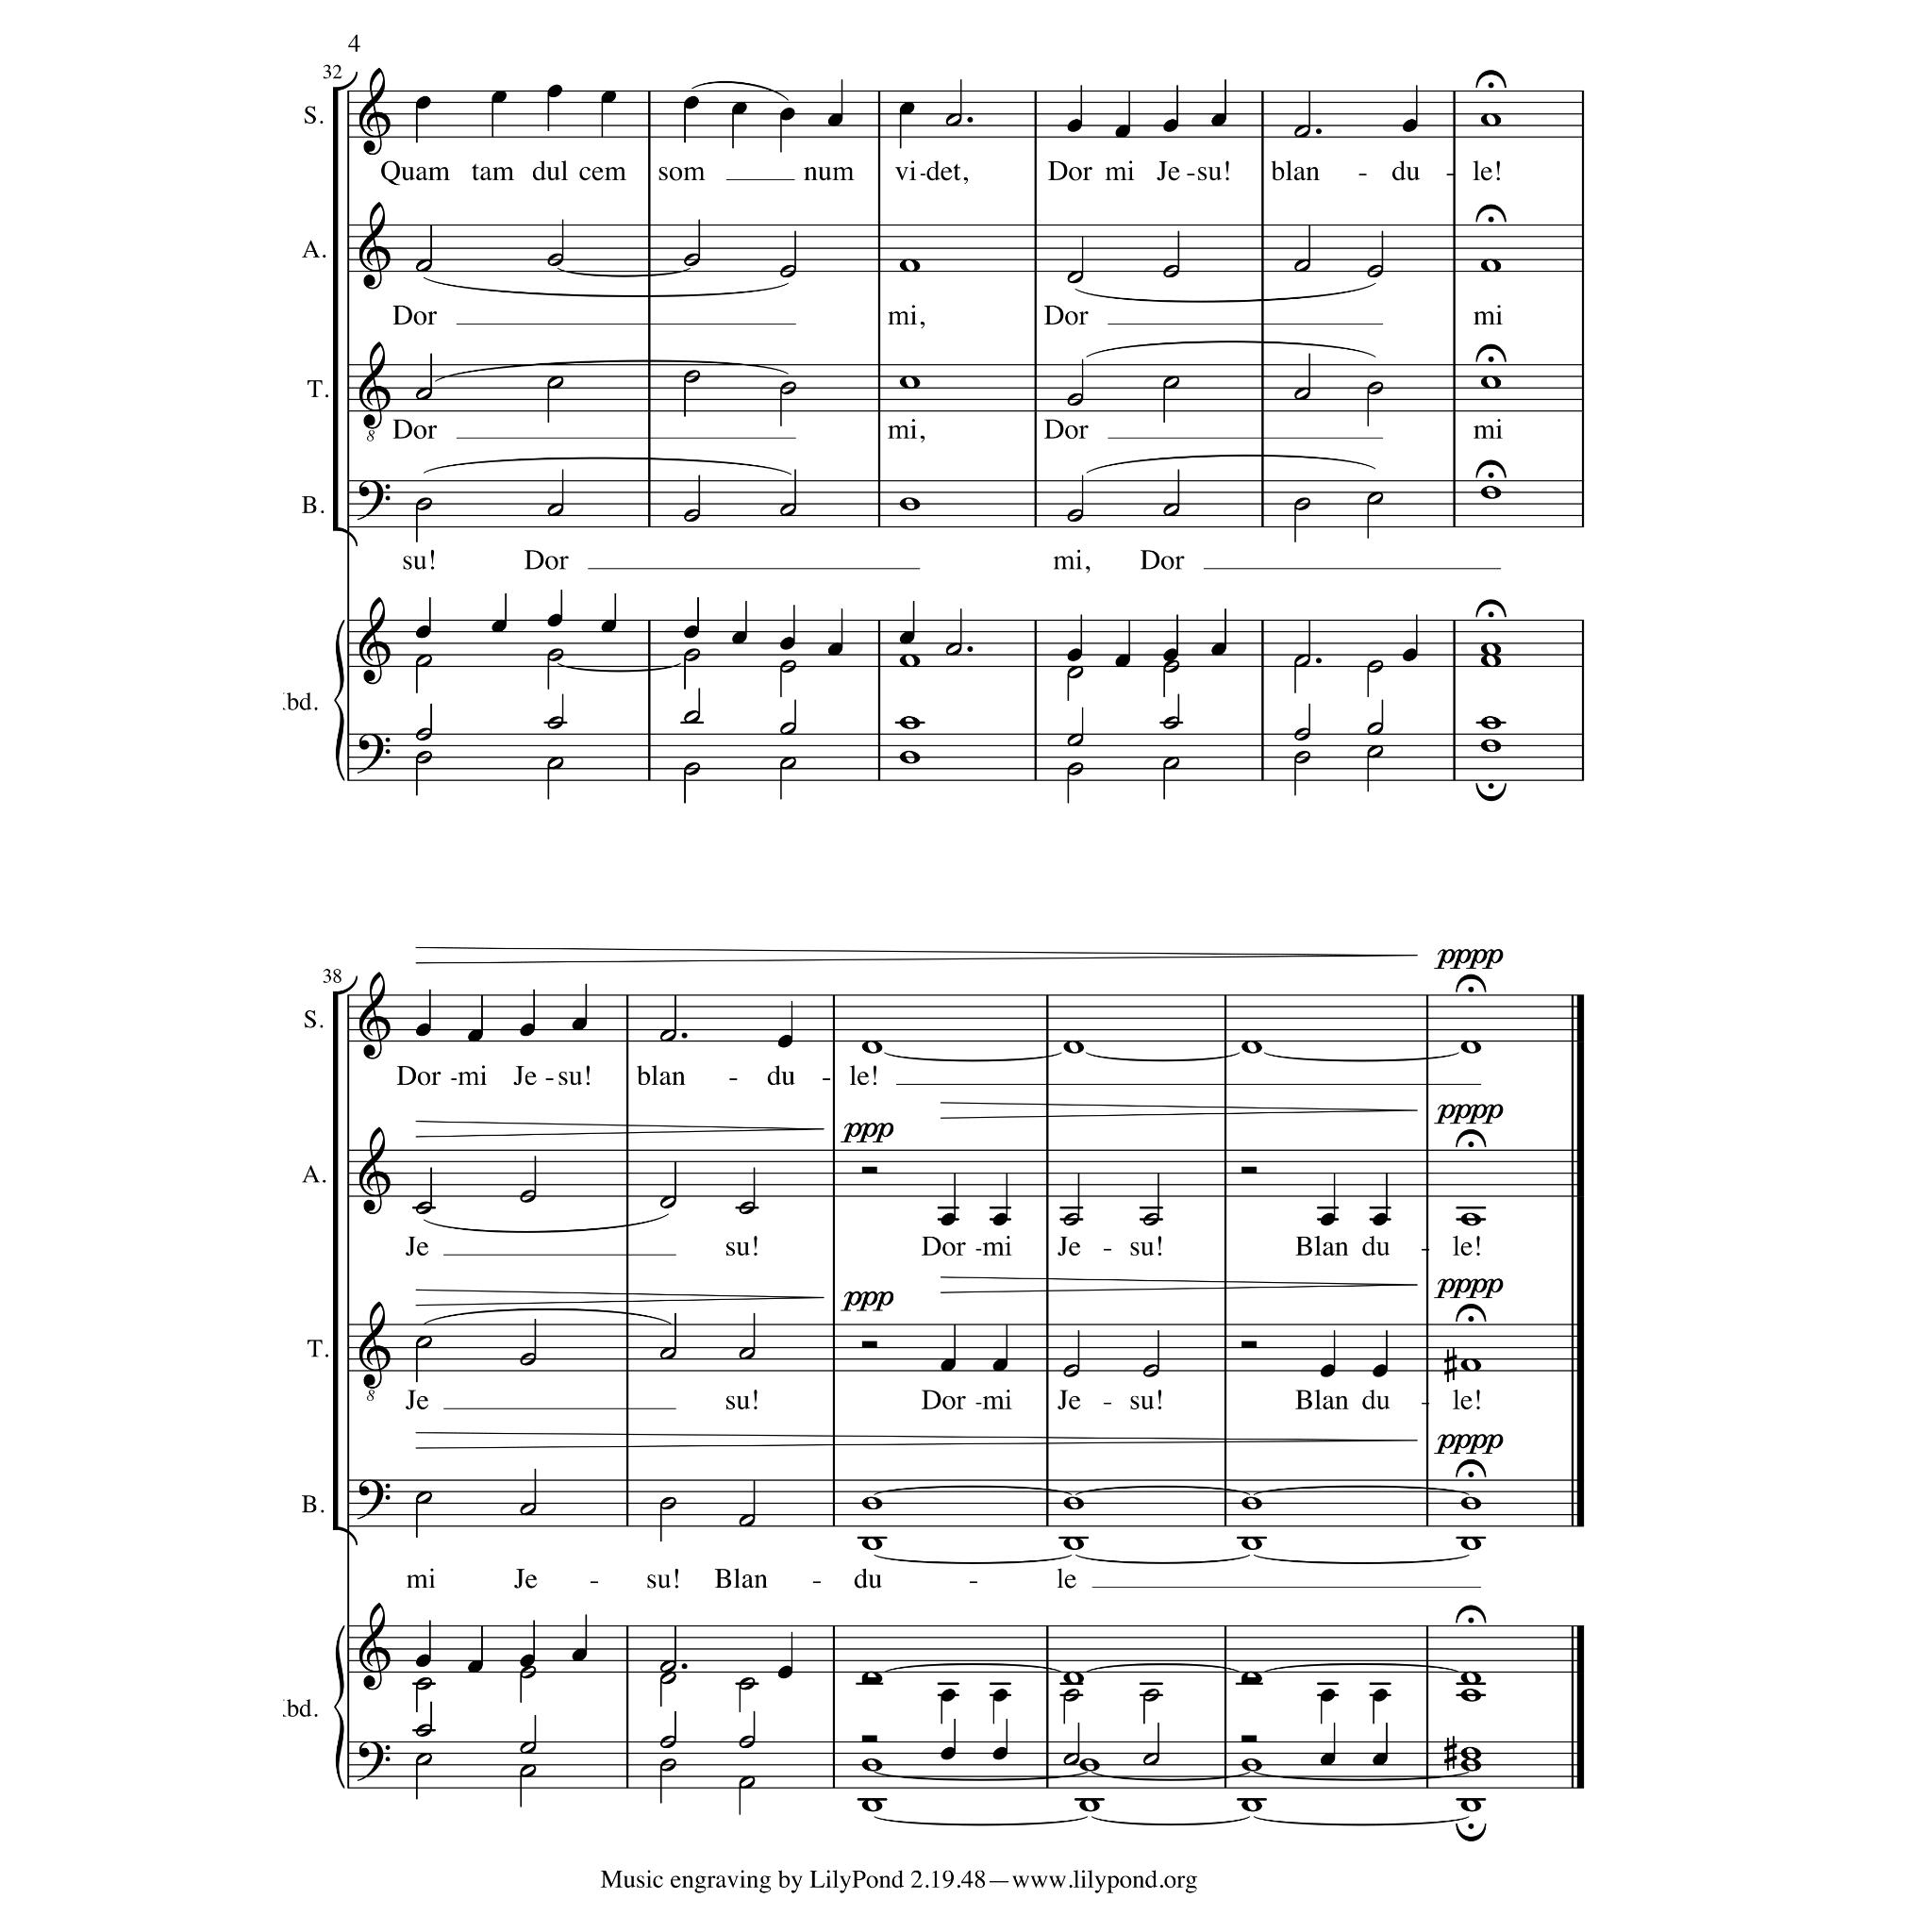brace: (333, 620, 344, 782), (333, 1626, 344, 1789)
fClef: (357, 1479, 391, 1521), (357, 481, 391, 521), (357, 734, 391, 774), (357, 1741, 391, 1781)
gClef: (358, 67, 391, 156), (358, 202, 391, 291), (358, 341, 391, 430), (358, 596, 391, 685), (358, 972, 391, 1060), (358, 1126, 391, 1215), (358, 1301, 391, 1390), (358, 1602, 391, 1690)
noteheadBlack: (1162, 119, 1179, 134), (1402, 119, 1419, 134), (1066, 119, 1083, 134), (519, 1653, 536, 1668), (684, 625, 699, 640), (415, 625, 430, 640), (415, 1653, 430, 1668), (1162, 648, 1179, 661), (1402, 648, 1419, 661), (600, 91, 617, 104), (600, 620, 617, 633), (898, 102, 915, 115), (898, 631, 915, 644), (1066, 648, 1083, 661), (779, 108, 796, 121), (826, 643, 843, 657), (826, 113, 843, 126), (779, 637, 796, 650), (1372, 1213, 1389, 1226), (1372, 1364, 1389, 1377), (1372, 1689, 1389, 1702), (1372, 1753, 1389, 1766), (466, 1029, 483, 1042), (466, 1660, 483, 1674), (519, 1024, 536, 1037), (940, 1213, 957, 1226), (940, 1358, 957, 1372), (940, 1689, 957, 1702), (940, 1747, 957, 1760), (1211, 643, 1226, 657), (1211, 113, 1226, 126), (1115, 655, 1130, 668), (1115, 125, 1130, 139), (491, 91, 507, 104), (491, 620, 507, 633), (547, 85, 562, 98), (547, 614, 562, 627), (684, 96, 699, 109), (415, 96, 430, 109), (732, 631, 747, 644), (732, 102, 747, 115), (1321, 1364, 1336, 1377), (1321, 1213, 1336, 1226), (1321, 1753, 1336, 1766), (1321, 1689, 1336, 1702), (572, 1018, 587, 1031), (572, 1648, 587, 1661), (415, 1024, 430, 1037), (992, 1213, 1008, 1226), (992, 1358, 1008, 1372), (992, 1689, 1008, 1702), (992, 1747, 1008, 1760), (777, 1666, 792, 1679), (777, 1035, 792, 1048)
noteheadHalf: (1367, 381, 1384, 396), (546, 253, 563, 268), (683, 253, 700, 268), (779, 381, 796, 396), (415, 1491, 432, 1506), (1293, 125, 1310, 139), (1293, 259, 1310, 273), (1293, 388, 1310, 401), (1293, 498, 1310, 511), (1293, 727, 1310, 741), (1293, 751, 1310, 764), (1293, 655, 1310, 668), (1067, 762, 1084, 775), (1162, 265, 1179, 278), (1162, 376, 1179, 390), (1162, 504, 1179, 517), (1162, 660, 1179, 674), (1162, 717, 1179, 730), (1162, 757, 1179, 770), (1367, 265, 1384, 278), (1367, 492, 1384, 506), (1367, 660, 1384, 674), (1367, 723, 1384, 736), (1367, 745, 1384, 758), (546, 757, 563, 770), (546, 717, 563, 730), (546, 376, 563, 390), (546, 504, 563, 517), (546, 648, 563, 661), (683, 710, 700, 724), (683, 762, 700, 775), (683, 648, 700, 661), (1067, 734, 1084, 747), (683, 371, 700, 384), (683, 509, 700, 523), (415, 751, 432, 764), (415, 259, 432, 273), (415, 388, 432, 401), (415, 498, 432, 511), (415, 655, 432, 668), (415, 727, 432, 741), (945, 113, 962, 126), (945, 643, 962, 657), (1067, 271, 1084, 284), (1067, 393, 1084, 407), (1067, 509, 1084, 523), (1067, 666, 1084, 679), (779, 265, 796, 278), (779, 504, 796, 517), (779, 660, 796, 674), (779, 757, 796, 770), (779, 723, 796, 736), (1063, 1364, 1080, 1377), (1063, 1689, 1080, 1702), (1063, 1753, 1080, 1766), (1142, 1753, 1159, 1766), (1142, 1213, 1159, 1226), (1142, 1364, 1159, 1377), (1142, 1689, 1159, 1702), (520, 1191, 537, 1204), (520, 1353, 537, 1366), (520, 1503, 537, 1516), (520, 1666, 537, 1679), (520, 1741, 537, 1755), (520, 1764, 537, 1777), (659, 1029, 676, 1042), (659, 1195, 676, 1208), (659, 1347, 676, 1360), (659, 1497, 676, 1510), (659, 1660, 676, 1674), (659, 1672, 676, 1685), (659, 1736, 676, 1749), (659, 1758, 676, 1772), (415, 1336, 432, 1349), (415, 1202, 432, 1215), (415, 1677, 432, 1690), (415, 1724, 432, 1738), (415, 1753, 432, 1766), (1063, 1213, 1080, 1226), (739, 1514, 756, 1527), (739, 1202, 756, 1215), (739, 1347, 756, 1360), (739, 1677, 756, 1690), (739, 1736, 756, 1749), (739, 1775, 756, 1789)
noteheadWhole: (1479, 715, 1502, 730), (1479, 485, 1502, 500), (1479, 641, 1502, 657), (898, 715, 921, 730), (1062, 1536, 1085, 1551), (860, 1536, 883, 1551), (1241, 1536, 1262, 1551), (1460, 1536, 1481, 1551), (1479, 259, 1502, 273), (1479, 376, 1502, 390), (1479, 655, 1502, 668), (1479, 740, 1502, 753), (1479, 113, 1502, 126), (898, 259, 921, 273), (898, 376, 921, 390), (898, 498, 921, 511), (898, 655, 921, 668), (898, 751, 921, 764), (1062, 1497, 1085, 1510), (1062, 1672, 1085, 1685), (1062, 1041, 1085, 1054), (860, 1041, 883, 1054), (860, 1497, 883, 1510), (860, 1672, 883, 1685), (860, 1799, 883, 1812), (860, 1758, 883, 1772), (1079, 1799, 1100, 1812), (1079, 1758, 1100, 1772), (1241, 1041, 1262, 1054), (1241, 1497, 1262, 1510), (1241, 1672, 1262, 1685), (1241, 1799, 1262, 1812), (1241, 1758, 1262, 1772), (1460, 1689, 1481, 1702), (1460, 1358, 1481, 1372), (1460, 1497, 1481, 1510), (1460, 1672, 1481, 1685), (1460, 1213, 1481, 1226), (1460, 1747, 1481, 1760), (1460, 1799, 1481, 1812), (1460, 1758, 1481, 1772), (1460, 1041, 1481, 1054)
restHalf: (1235, 1677, 1263, 1685), (856, 1677, 884, 1685), (1241, 1167, 1257, 1174), (1241, 1341, 1257, 1348), (1241, 1735, 1257, 1742), (862, 1167, 877, 1174), (862, 1341, 877, 1348), (862, 1735, 877, 1742)
